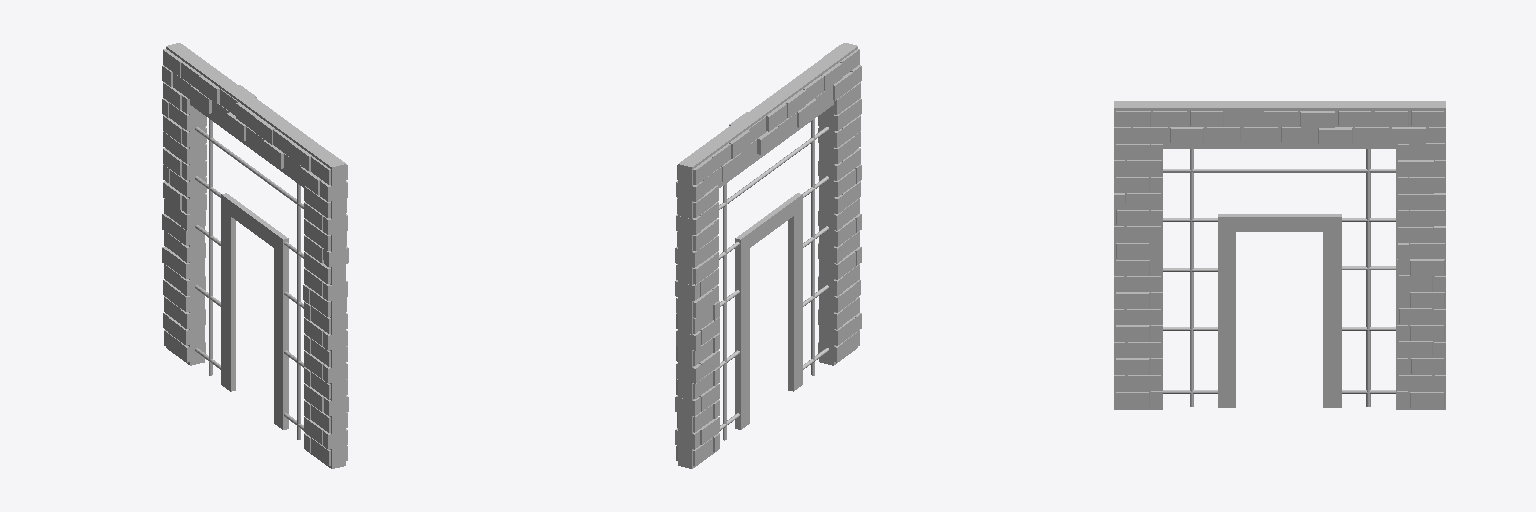
Rendered from Main_Door_UNTEXTURED.obj.
The picture shows the model from 3 angles: view 1: azimuth 30°, elevation 25°; view 2: azimuth 150°, elevation 25°; view 3: azimuth 270°, elevation 25°; orthographic projection.
Parts seen in each view (by area): view 1: polySurface466; view 2: polySurface466; view 3: polySurface466.
Boxes of the visible parts, x1=… form: polySurface466: x1=162, y1=43, x2=348, y2=468; polySurface466: x1=675, y1=43, x2=861, y2=468; polySurface466: x1=1114, y1=101, x2=1445, y2=409.
Size of the model in its own units: 0.817 by 10.03 by 10.01.